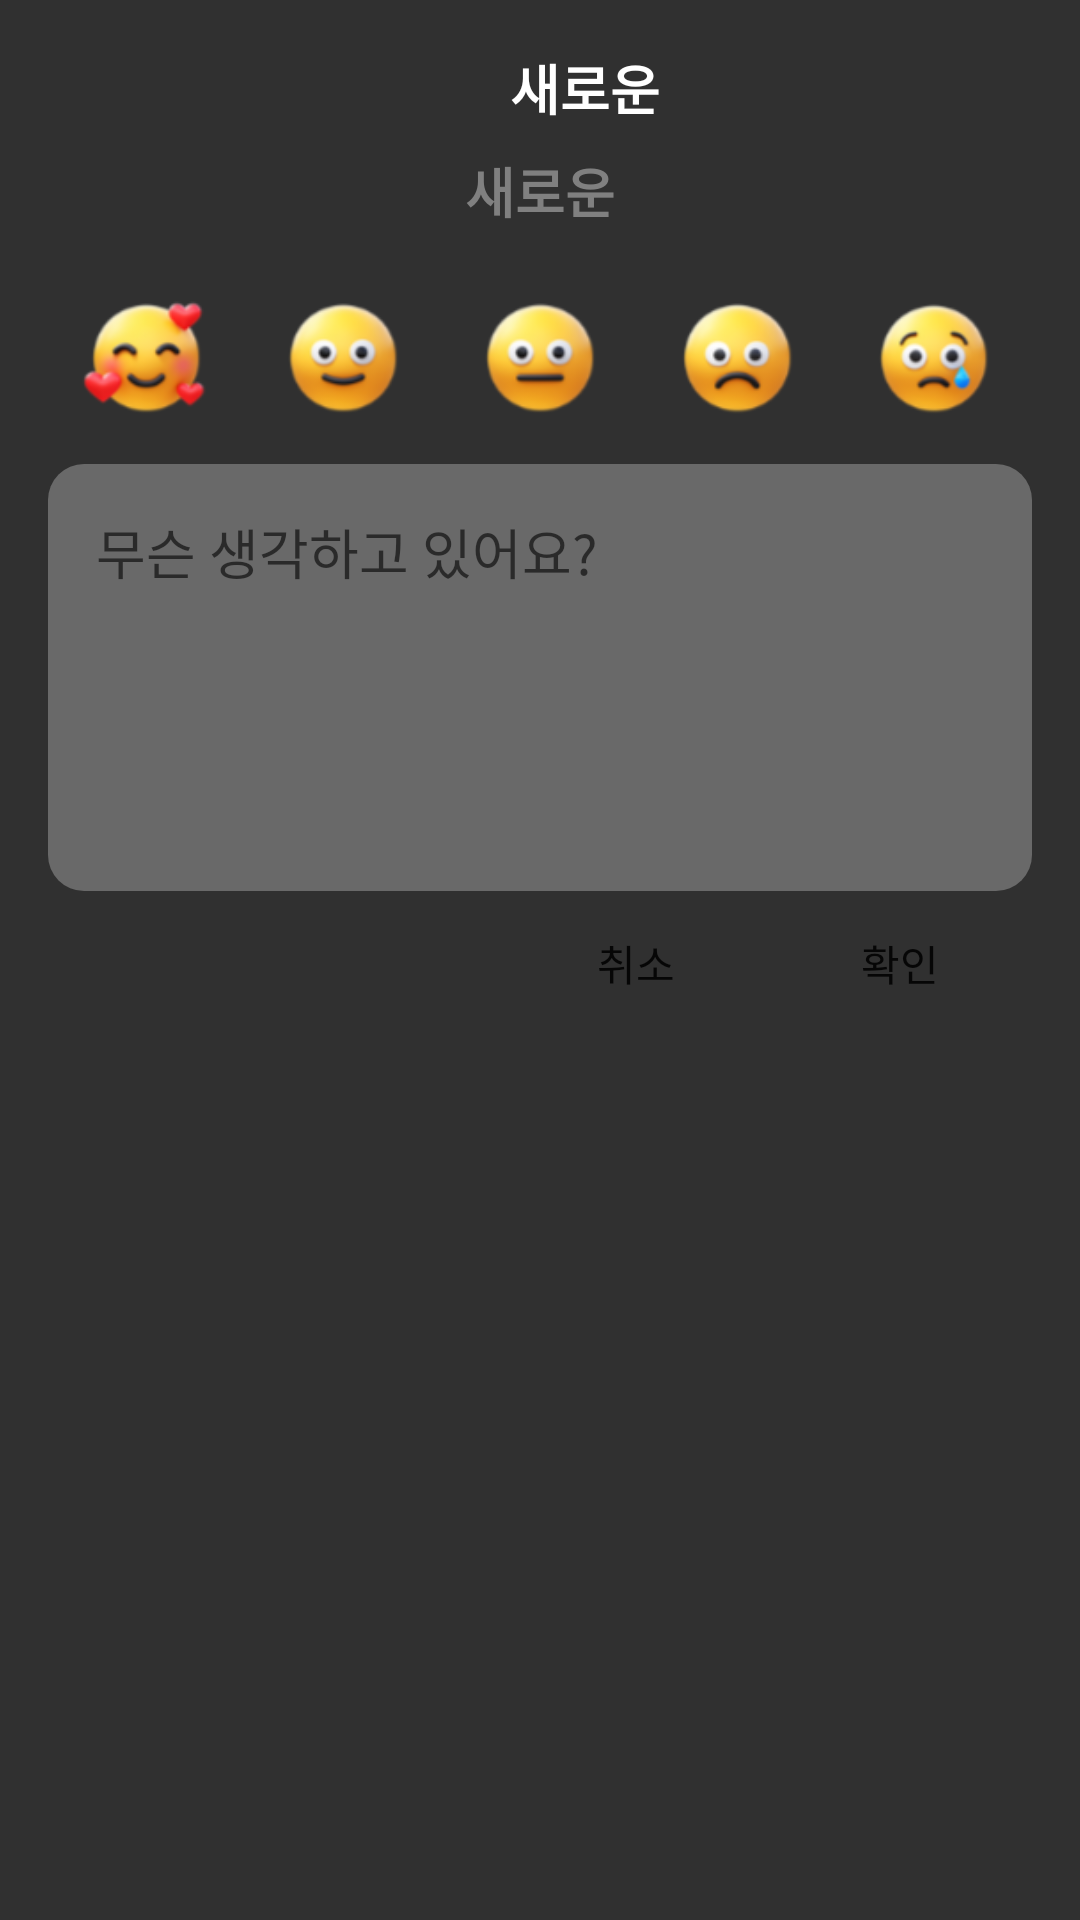

Icon click points for this 1080 × 1920 phone screenshot, format (x=x, y=y):
feeling happy: (x=343, y=358)
feeling natural: (x=540, y=358)
feeling sad: (x=737, y=358)
feeling verryhappy: (x=144, y=357)
feeling verrysad: (x=933, y=358)
